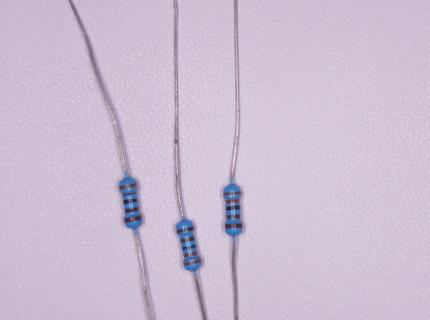Black band: (183, 244, 196, 250), (123, 199, 138, 204), (226, 205, 240, 210)
Brown band: (124, 215, 142, 223), (178, 226, 194, 234), (225, 223, 243, 229), (181, 236, 194, 243), (125, 207, 139, 213), (226, 214, 240, 219)
Orange band: (119, 182, 136, 190), (185, 259, 201, 266), (224, 191, 241, 196), (226, 198, 240, 204), (123, 191, 136, 197), (184, 251, 197, 257)
